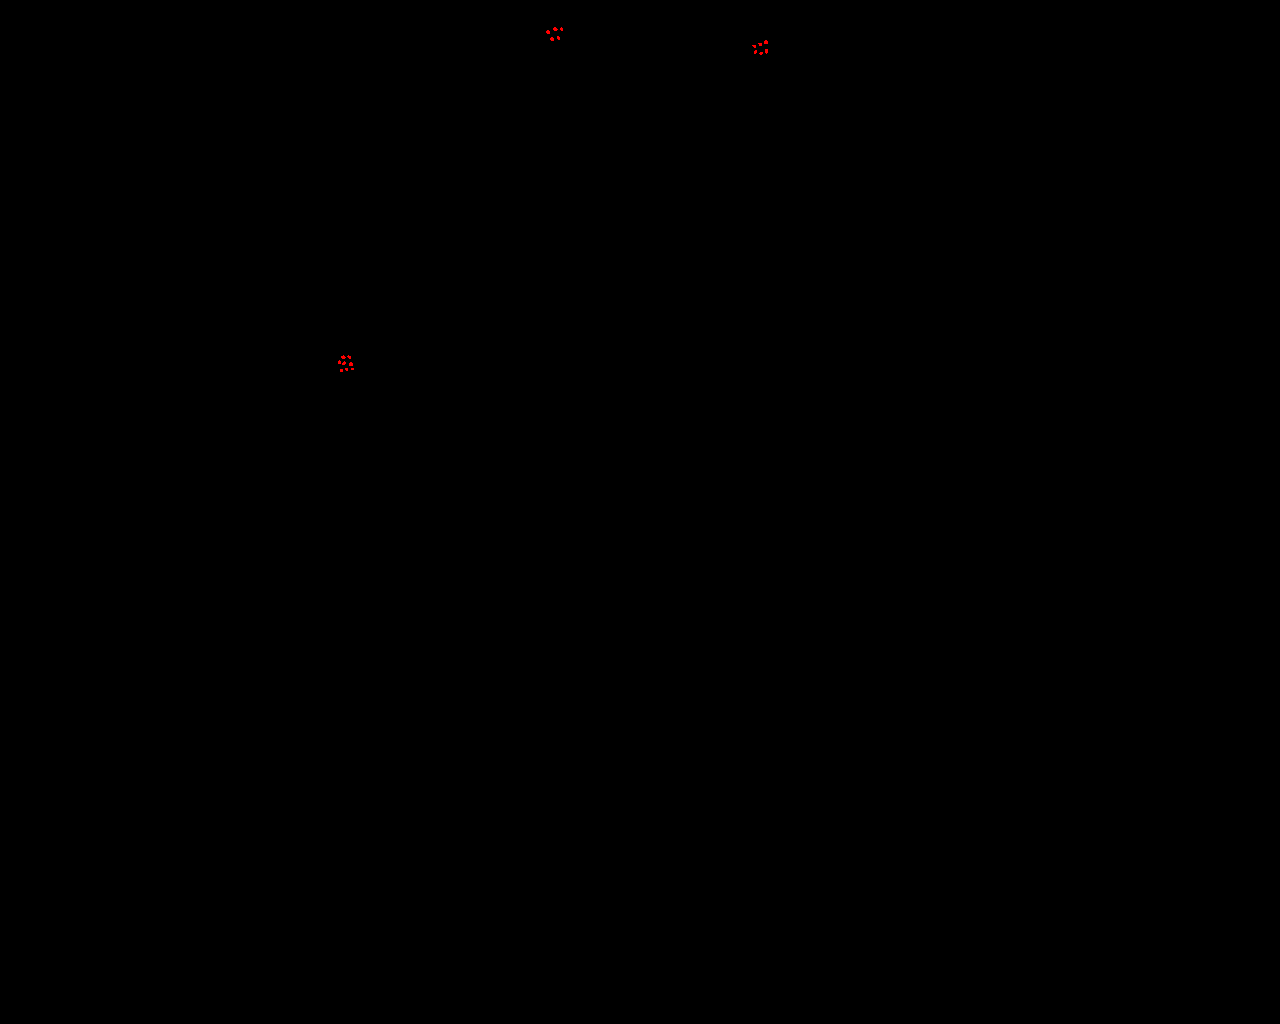Target: (553, 27, 558, 31), (341, 355, 346, 359), (550, 37, 554, 41), (764, 40, 768, 44), (347, 355, 351, 359), (342, 360, 346, 365), (349, 362, 353, 366), (765, 49, 768, 54), (560, 27, 563, 31), (546, 30, 550, 34), (557, 36, 560, 40), (758, 43, 762, 46), (752, 45, 757, 48), (759, 52, 763, 55), (338, 360, 341, 364), (345, 368, 348, 371), (340, 369, 343, 372), (754, 50, 757, 54), (351, 368, 354, 370)
